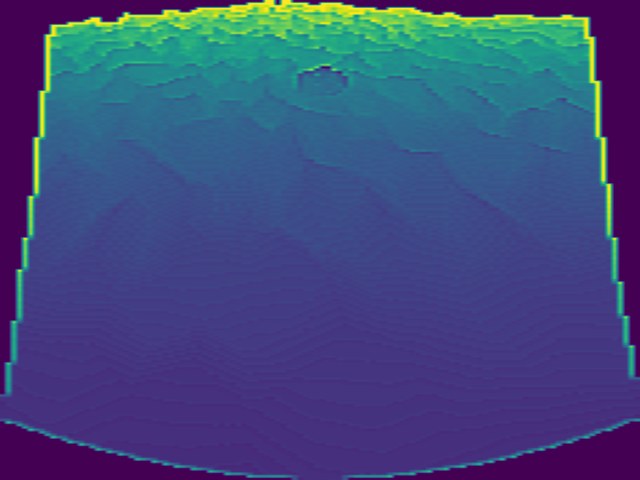car_0198: (295, 67, 348, 96)
